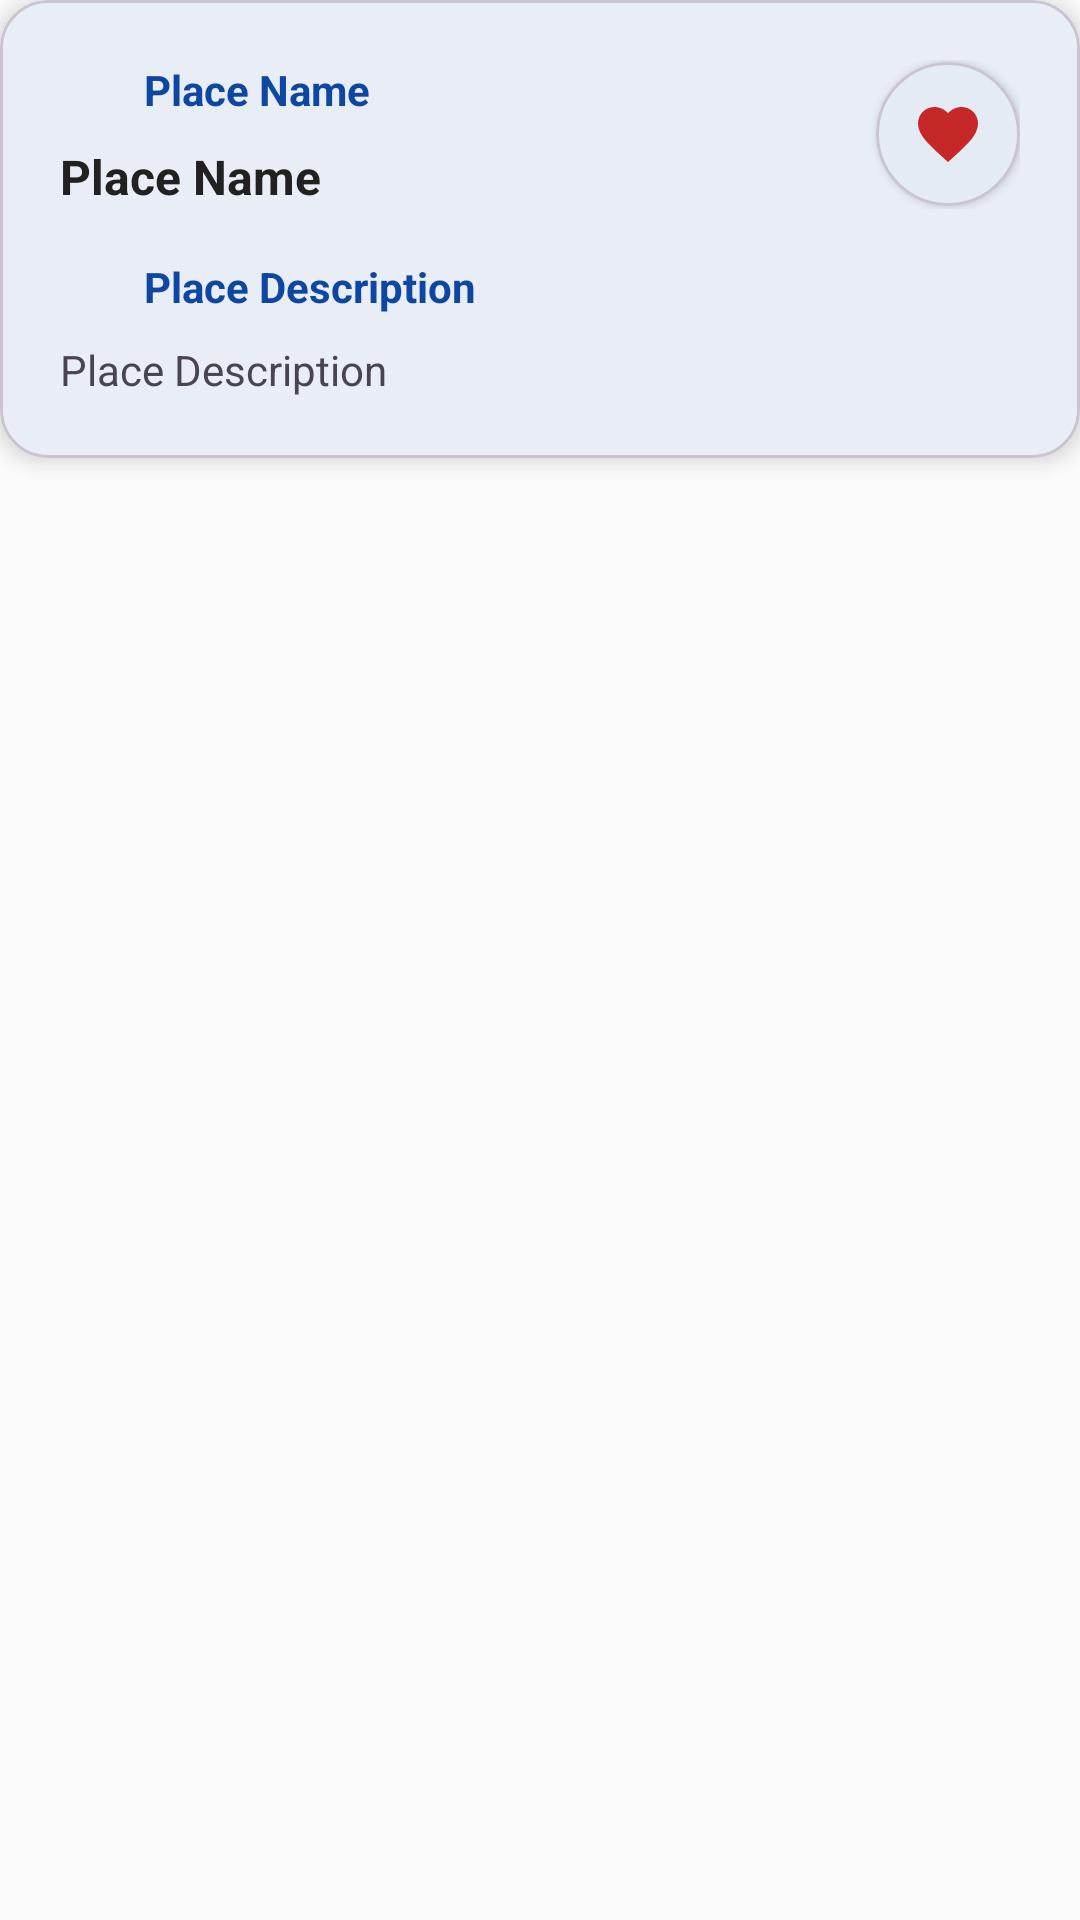

Icons on this 1080px×1920px Android screen, each with the point to tap as (x,y):
Add to Favorite: (948,134)
